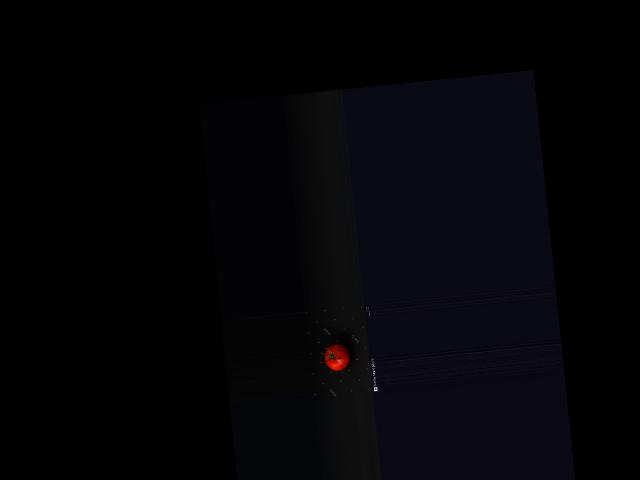tomato: (323, 342, 350, 371)
